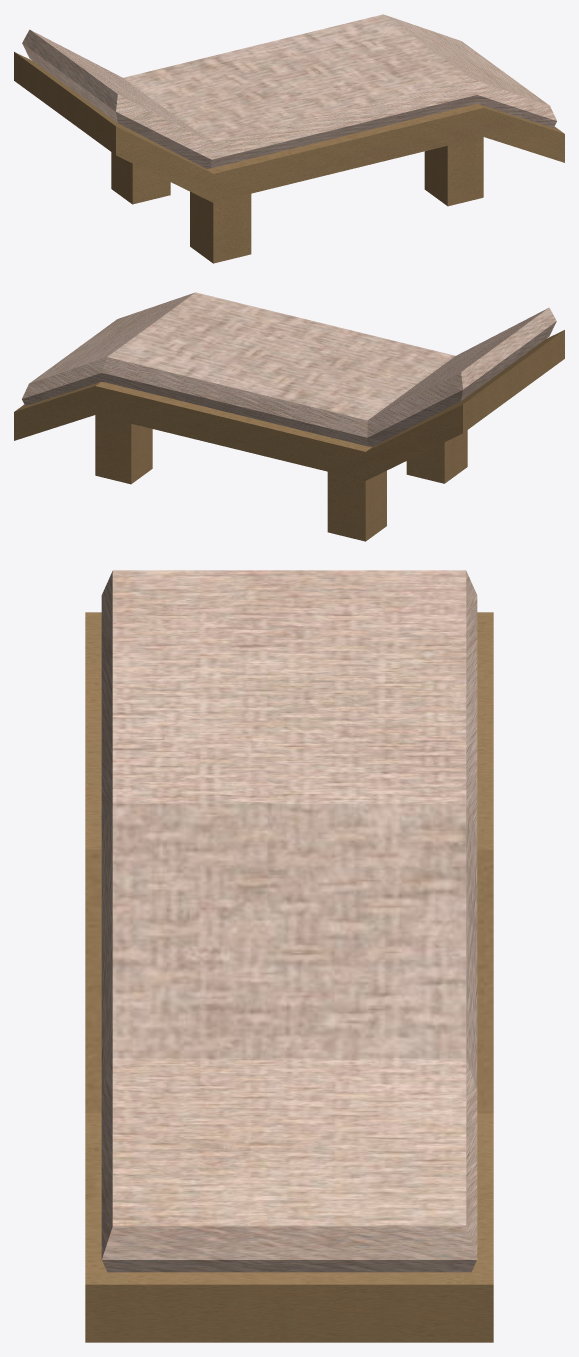
File: Tumbona.fbx
3 views of the same model, one above another, from view 1: azimuth 30°, elevation 25°; view 2: azimuth 150°, elevation 25°; view 3: azimuth 270°, elevation 25° (orthographic). The views are drawn at different scales.
Parts seen in each view (by area): view 1: Cube, Cube.001; view 2: Cube, Cube.001; view 3: Cube, Cube.001.
Part boxes in pixels (bbox=[...]): Cube: bbox=[22, 14, 556, 168]; Cube.001: bbox=[14, 52, 564, 263]; Cube: bbox=[22, 292, 556, 446]; Cube.001: bbox=[14, 330, 564, 541]; Cube: bbox=[101, 570, 477, 1272]; Cube.001: bbox=[85, 612, 493, 1342].
Bounding box in the file's own units: 843 × 334 × 332.
Materials: 2 (2 with a texture image).
